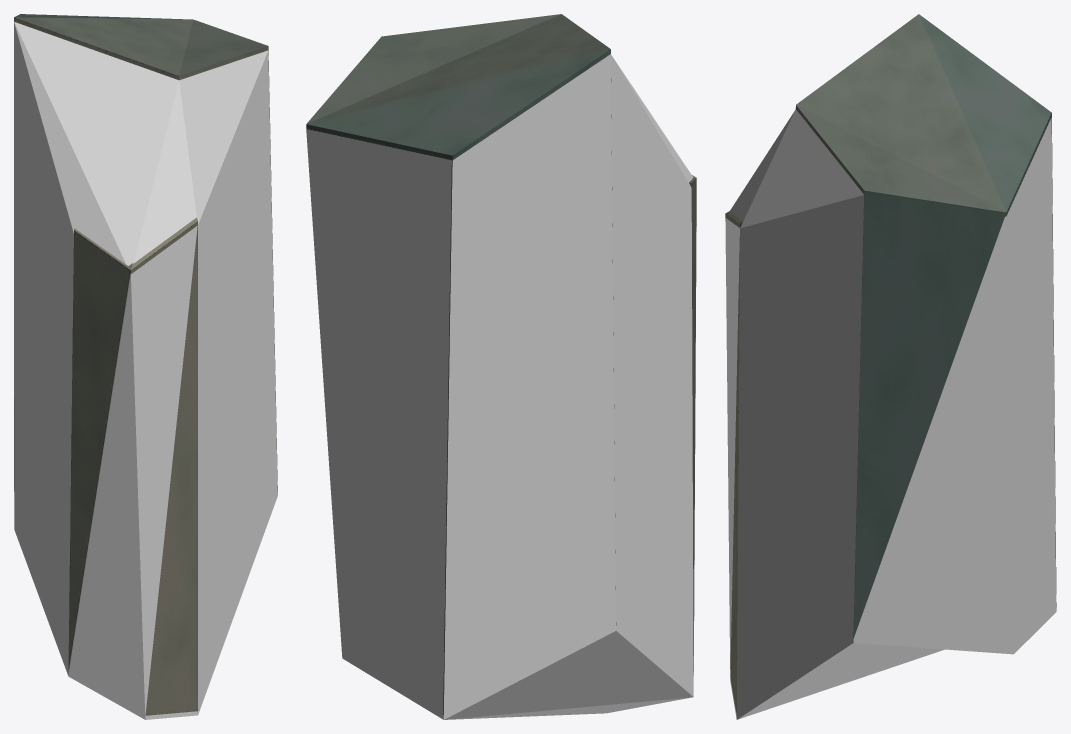
Rendered from rock.gltf.
3 views of the same model, side by side, from view 1: azimuth 30°, elevation 25°; view 2: azimuth 150°, elevation 25°; view 3: azimuth 270°, elevation 25° (orthographic). The views are drawn at different scales.
Visible parts, largest first — view 1: rockcolision.001, rock.001; view 2: rockcolision.001, rock.001; view 3: rockcolision.001, rock.001.
Part boxes in pixels (x1,y1,x2,y2): rockcolision.001: [14, 22, 277, 719]; rock.001: [14, 14, 277, 715]; rockcolision.001: [306, 54, 696, 719]; rock.001: [306, 14, 696, 714]; rockcolision.001: [725, 109, 1056, 719]; rock.001: [725, 14, 1056, 713].
Bounding box in the file's own units: 3.4 × 8.84 × 4.02.
1 material, 1 textured.
